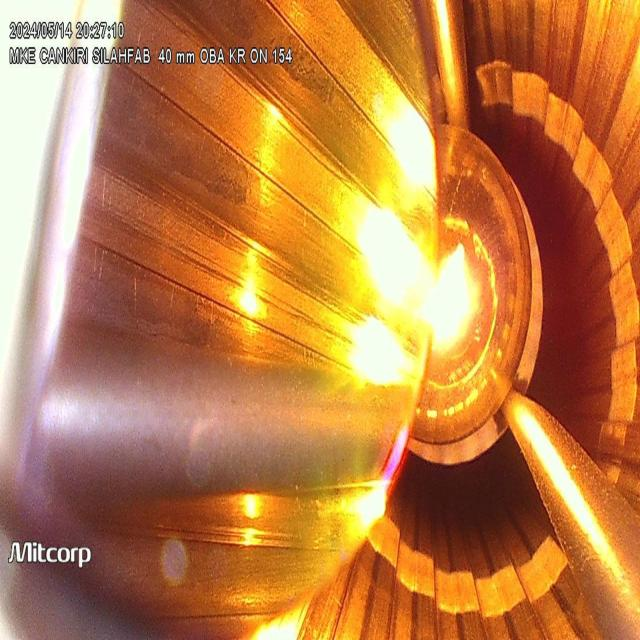hata_8.1: (316, 290, 404, 410), (204, 240, 310, 325)
hata_8.2: (103, 58, 272, 232), (67, 252, 251, 373), (219, 8, 390, 126)
